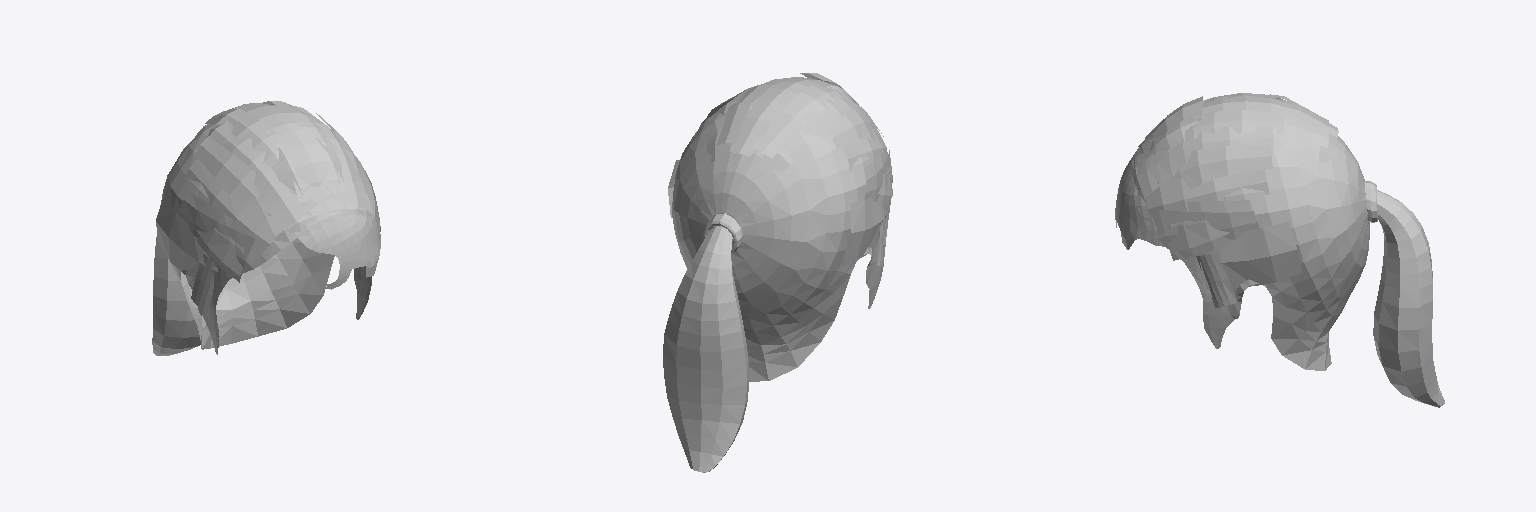
The model's file is hair_001.obj.
The picture shows the model from 3 angles: view 1: azimuth 30°, elevation 25°; view 2: azimuth 150°, elevation 25°; view 3: azimuth 270°, elevation 25°; orthographic projection.
Bounding box in the file's own units: 16.81 × 27.02 × 26.05.